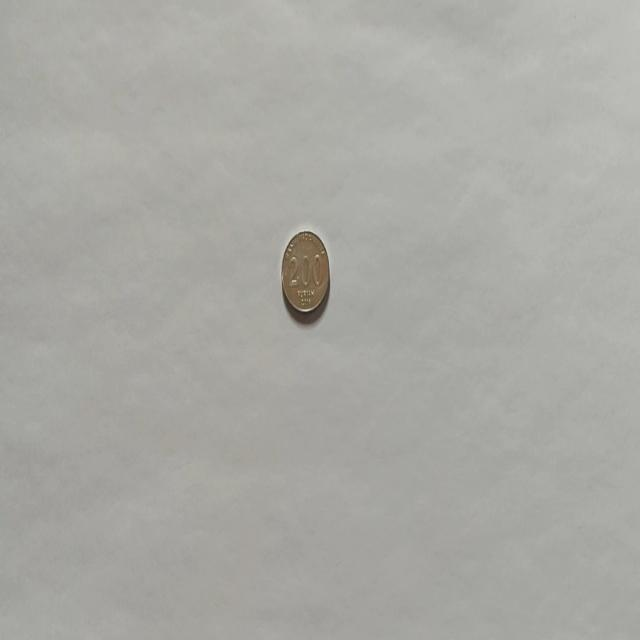dua ratus rupiah: (280, 228, 330, 316)
